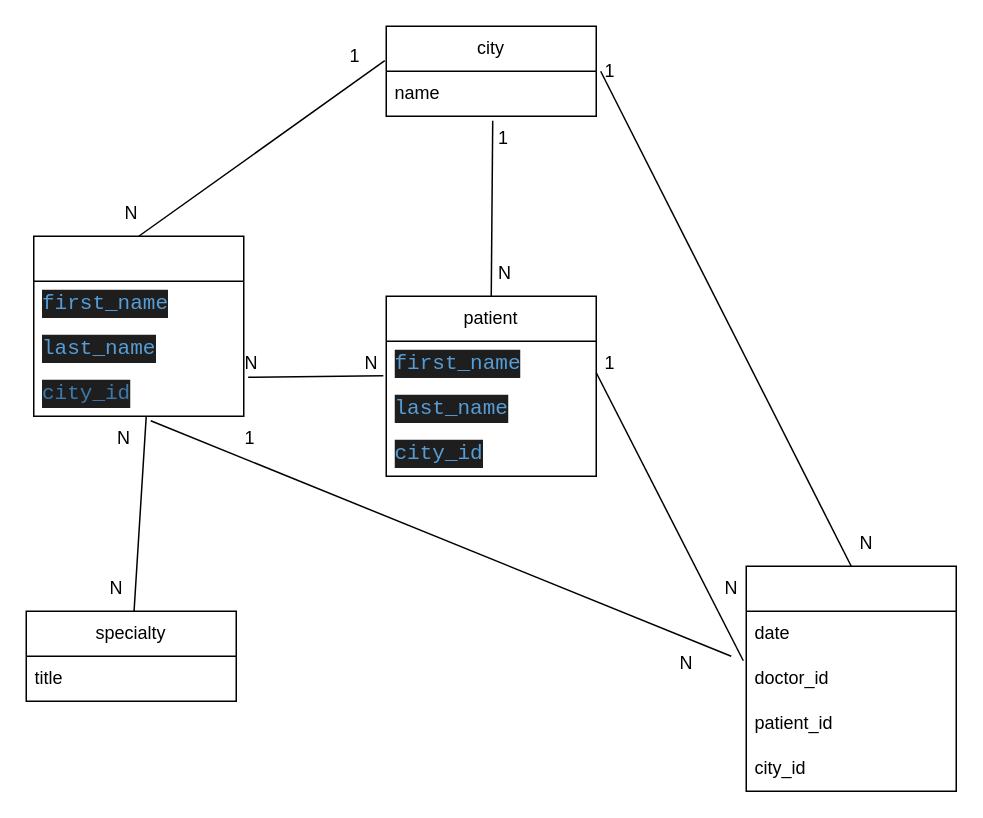
Image size: 983x818. Some labels were removed from this diagram. Here are the shapes that lost their labels. From the top down, the box of each, then its label:
(32, 235, 244, 416): doctor
(745, 565, 956, 791): rdv
